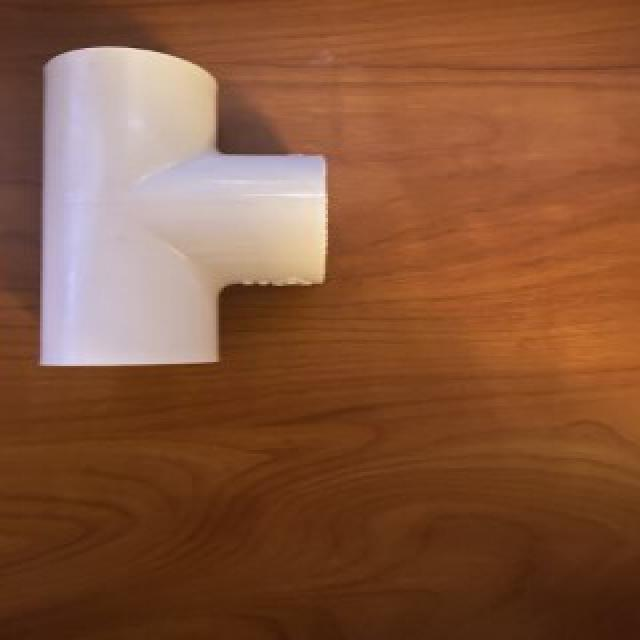T Joint: (37, 46, 330, 370)
